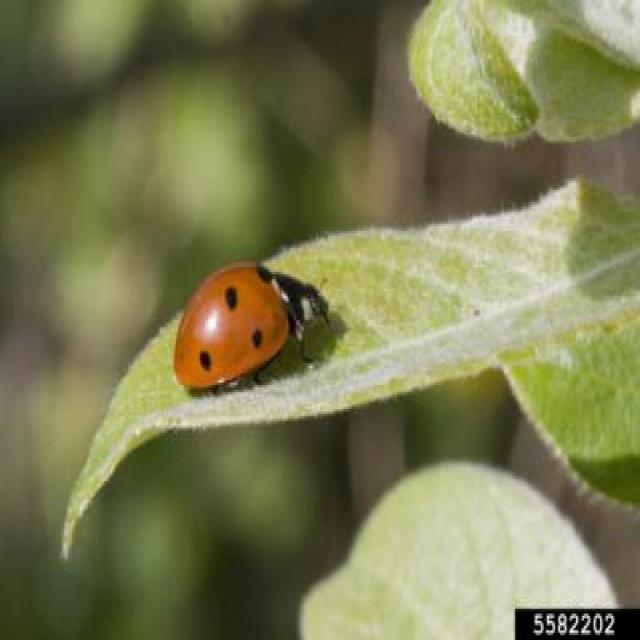body: (174, 256, 330, 395)
insect: (168, 250, 336, 402)
legs: (291, 332, 329, 375)
wings: (179, 265, 290, 387)
